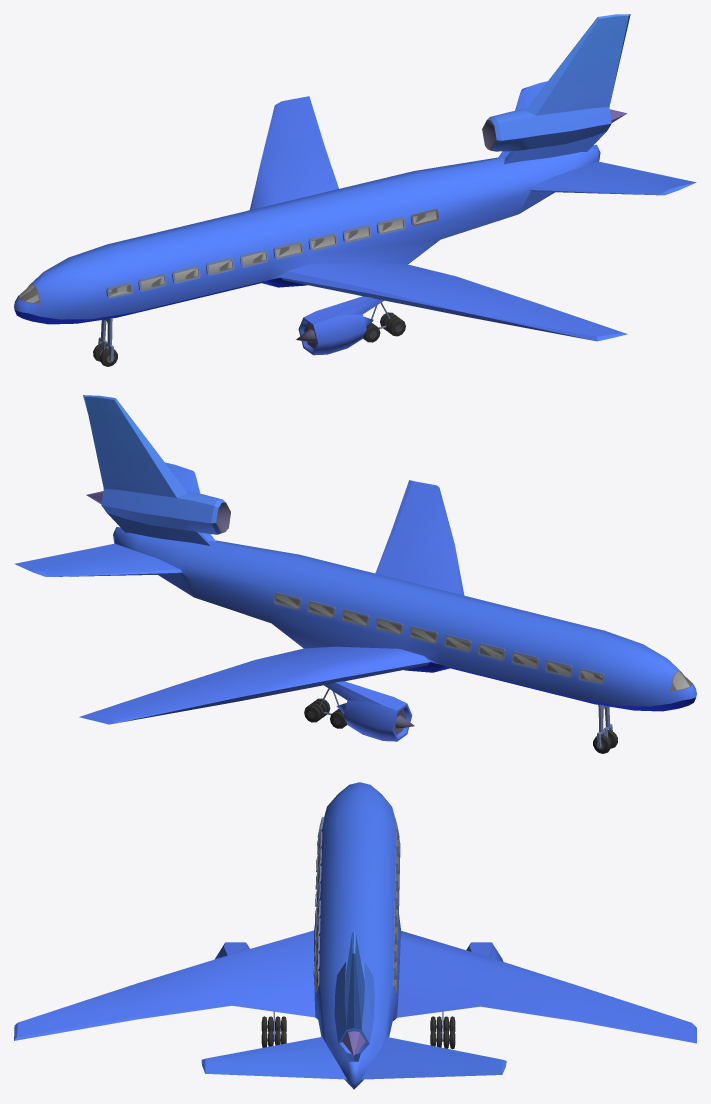
The picture shows the model from 3 angles, top to bottom: view 1: azimuth 30°, elevation 25°; view 2: azimuth 150°, elevation 25°; view 3: azimuth 270°, elevation 25°; orthographic projection. The views are drawn at different scales.
Visible parts, largest first — view 1: Plane_3_C; view 2: Plane_3_C; view 3: Plane_3_C.
Part boxes in pixels (<box>): Plane_3_C: <box>14,14,696,366</box>; Plane_3_C: <box>14,395,696,753</box>; Plane_3_C: <box>14,782,696,1089</box>.
Size of the model in its own units: 2712 by 969 by 2481.
